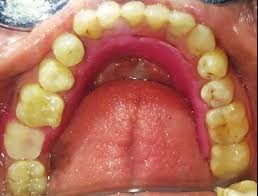UL1BC_healthy: (198, 50, 230, 78)
UL1M_decay: (207, 108, 250, 142)
UL2BC_decay: (200, 80, 237, 106)
UL2M_healthy: (210, 143, 251, 176)
ULCI_healthy: (147, 4, 168, 31)
ULC_healthy: (189, 24, 216, 54)
ULLI_healthy: (168, 8, 195, 39)
UR1BC_healthy: (53, 34, 85, 66)
UR1M_healthy: (18, 84, 66, 128)
UR2BC_healthy: (38, 61, 75, 92)
UR2M_healthy: (3, 121, 46, 162)
UR3M_healthy: (6, 160, 48, 196)
URCI_healthy: (121, 4, 146, 25)
URC_decay: (83, 9, 102, 39)
URLI_healthy: (97, 1, 122, 27)
